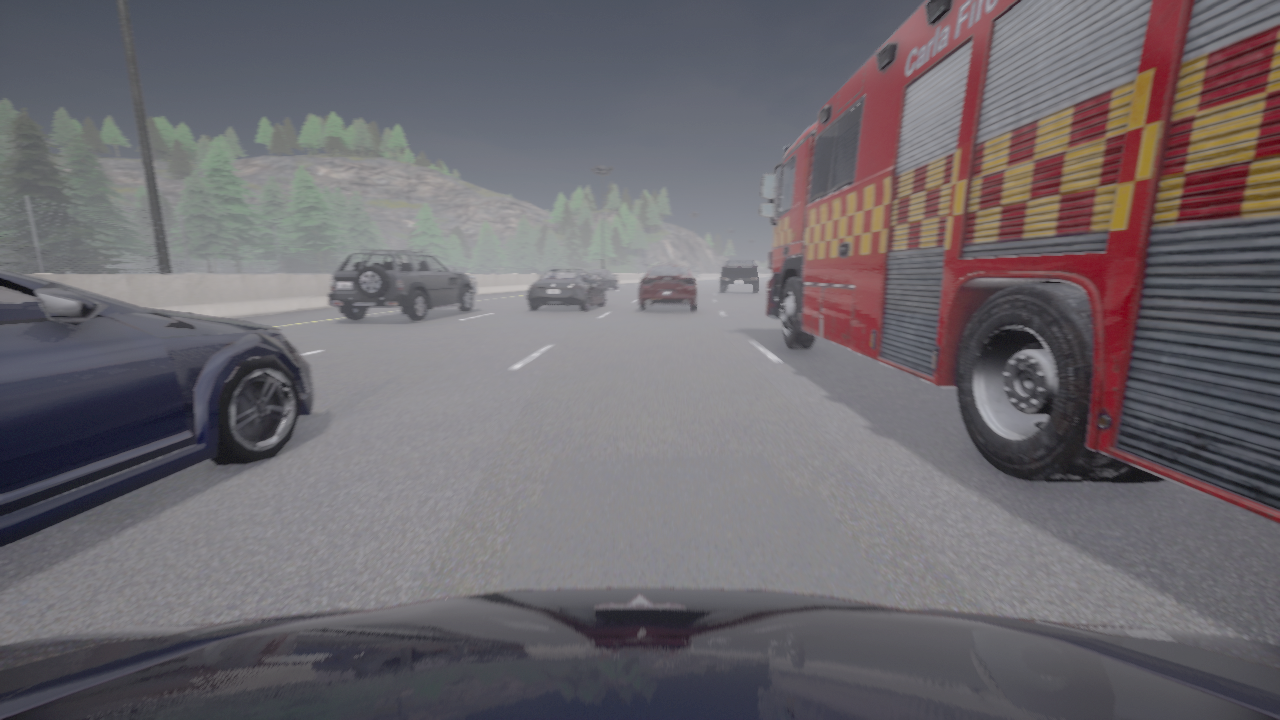cyclist: (759, 0, 1279, 524), (0, 588, 1279, 719), (328, 249, 476, 321), (526, 269, 605, 311), (639, 264, 699, 310), (718, 259, 759, 293), (587, 269, 617, 290)
